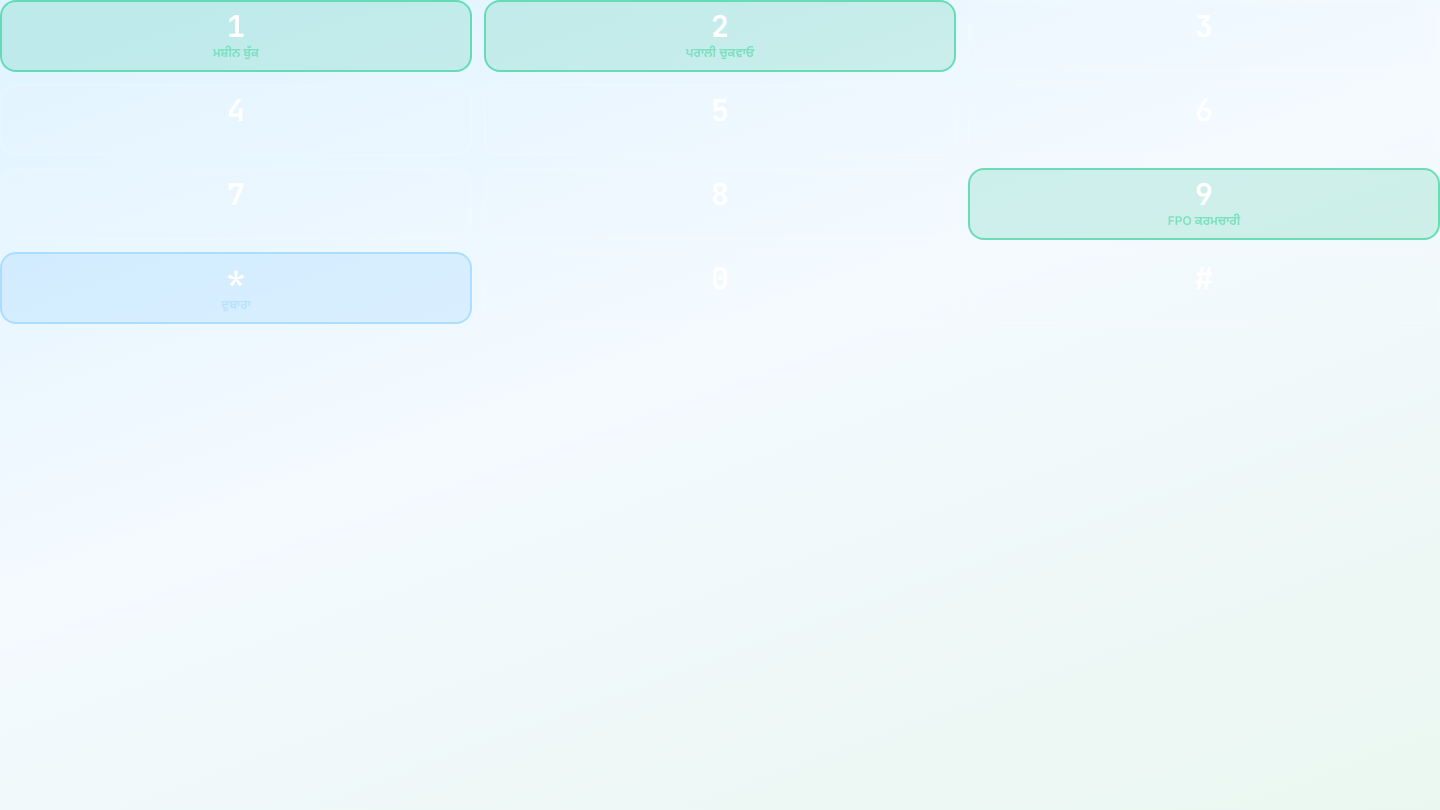
KeypadPanel flow › works in Punjabi when the interface language is Punjabi
This screenshot has width=1440, height=810.
Click the button with aria-label "1 ਦਬਾਓ: ਮਸ਼ੀਨ".
click(236, 36)  # box [0,0,472,72]
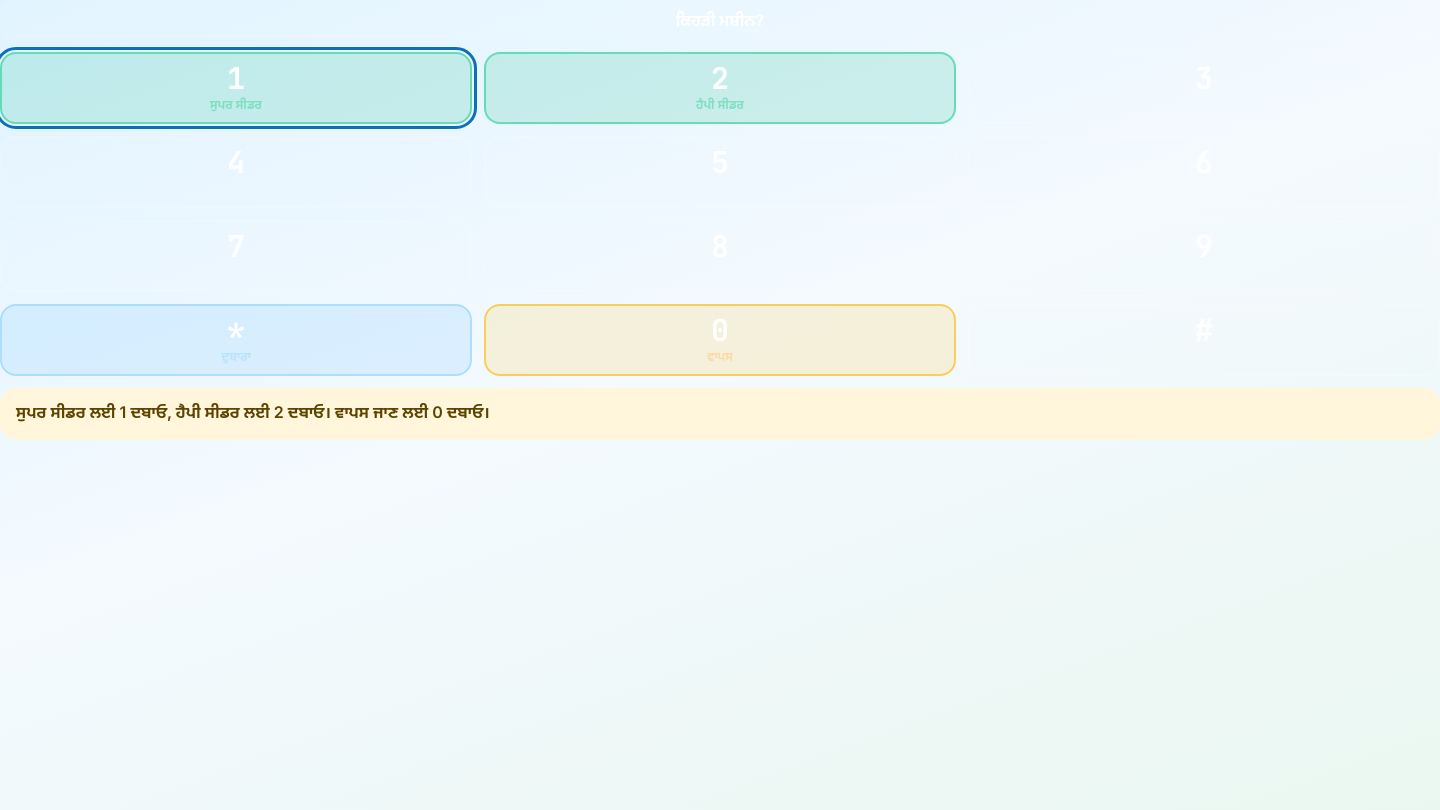
Expected: the message with test id "keypad-status" shows "ਹੈਪੀ ਸੀਡਰ ਲਈ 2 ਦਬਾਓ", [16,402,490,422]
Click the button with aria-label "1 ਦਬਾਓ: ਸੁਪਰ ਸੀਡਰ".
click(236, 88)  # box [0,52,472,124]
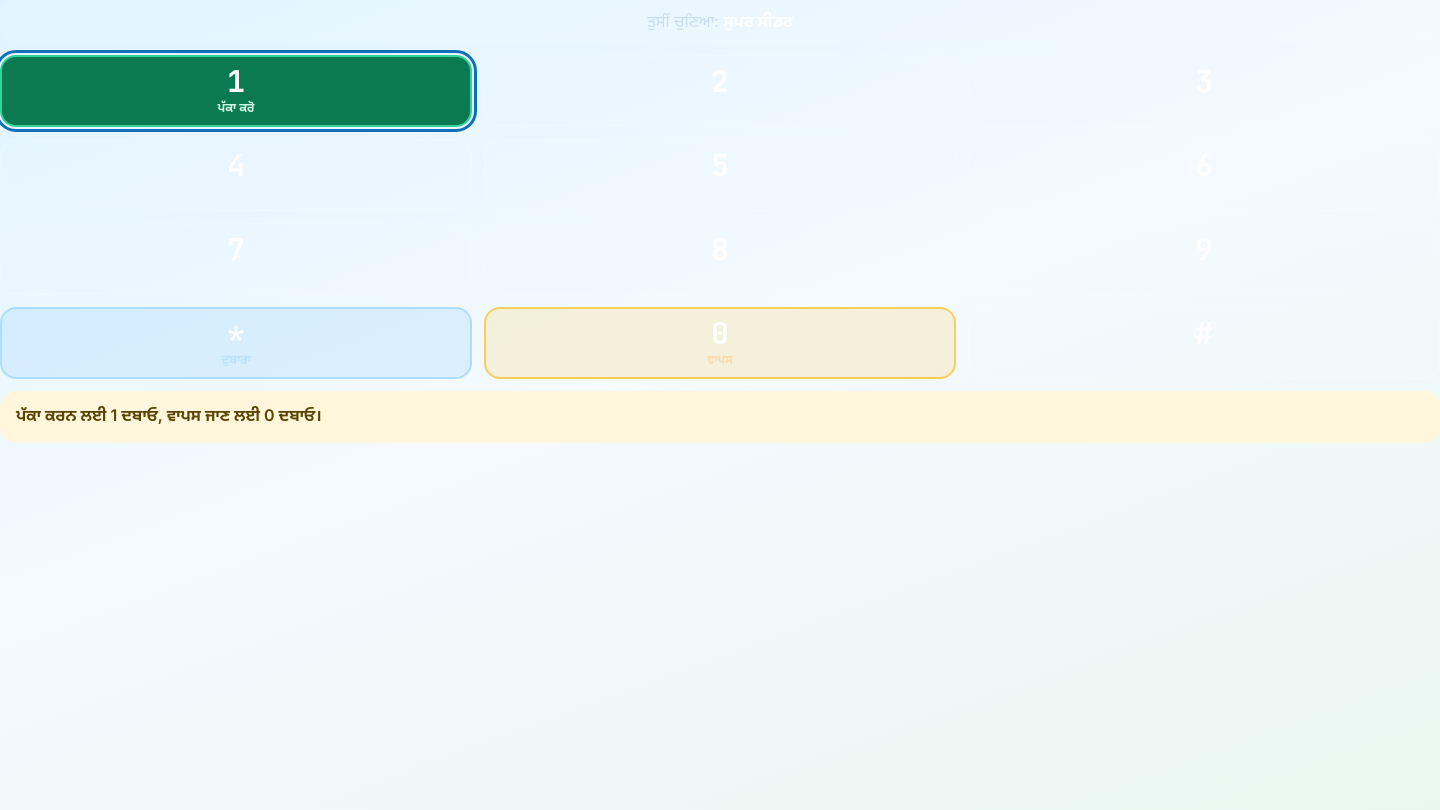
Expected: the message with test id "keypad-status" shows "ਪੱਕਾ ਕਰਨ ਲਈ 1 ਦਬਾਓ", [16,405,322,425]
Click the button with aria-label "1 ਦਬਾਓ: ਹਾਂ, ਪੱਕਾ ਕਰੋ".
click(236, 91)  # box [0,55,472,127]
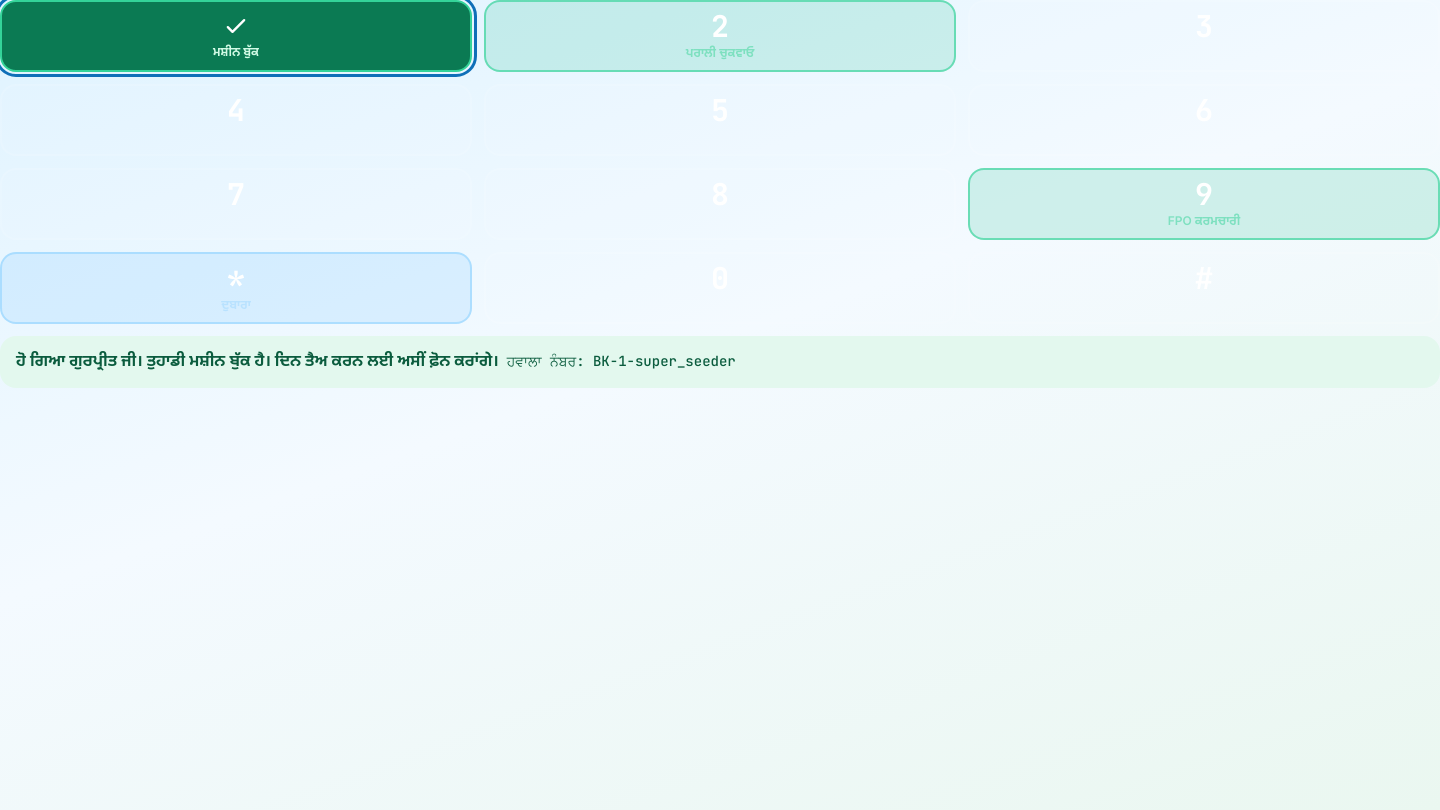
Expected: the message with test id "keypad-status" shows "ਤੁਹਾਡੀ ਮਸ਼ੀਨ ਬੁੱਕ ਹੈ", [16,350,499,370]
